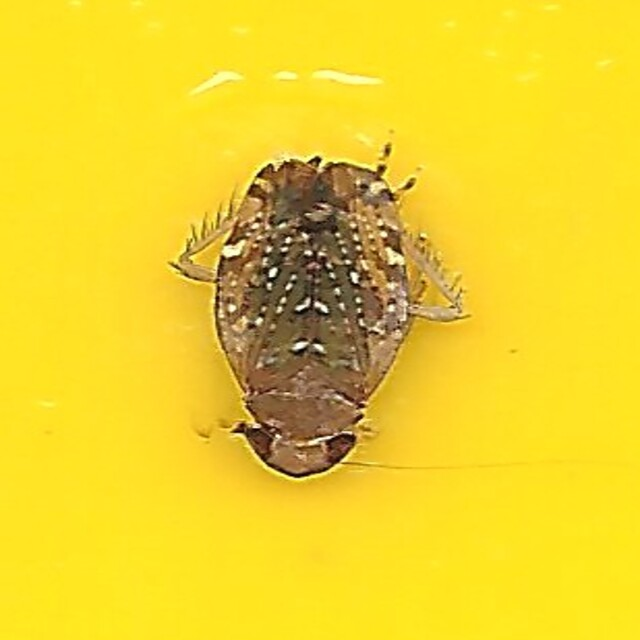Hemiptera: (207, 156, 433, 484)
